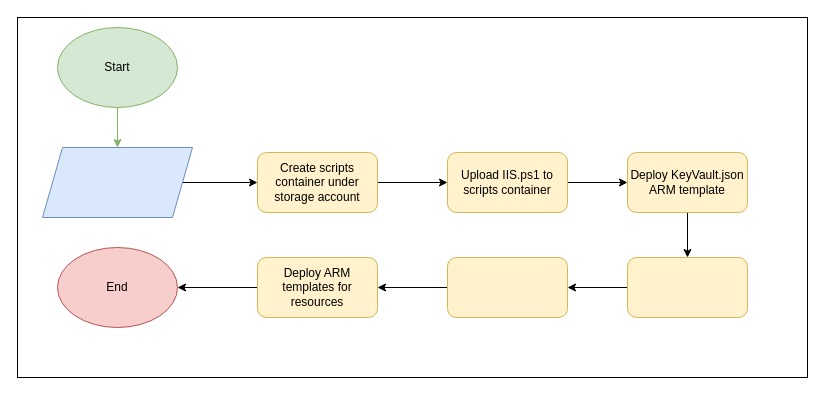
Image size: 825x395. Some labels were removed from this diagram. The centre of each missing label's shape, as x and y in pixels:
Add Key Vault Administrator role to User: point (687, 287)
Create Key Vault secrets: point (507, 287)
Input Variables and Parameters: point (117, 182)
